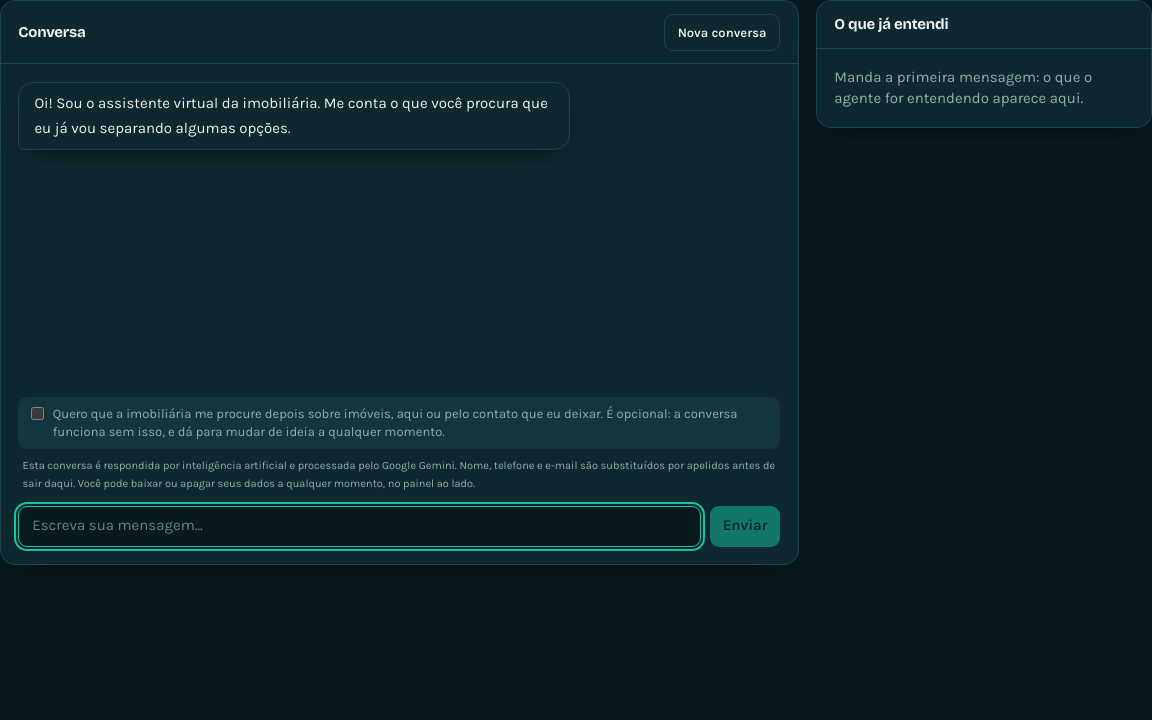
Test case: o que o payload do turno vira na tela › mostra o perfil em português, não o enum cru
The image size is (1152, 720).
Type "oi" into the field with placeholder "Escreva sua mensagem...".
click(360, 526); type("oi")  # box [18,506,701,547]
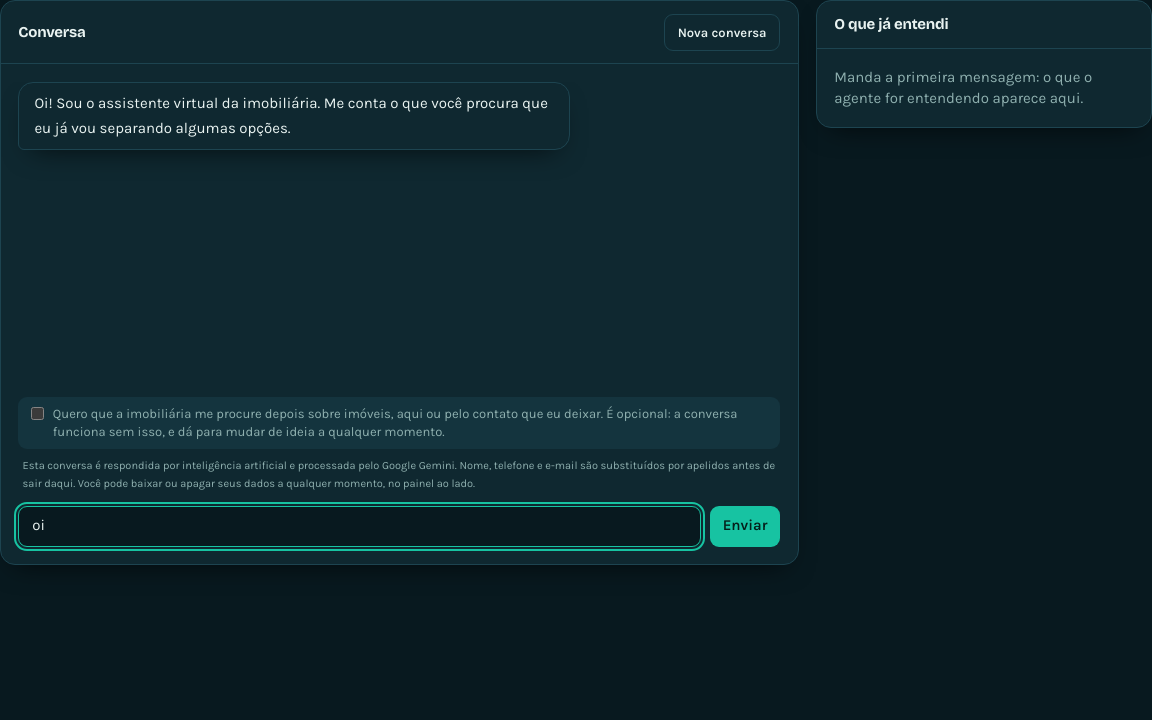
Click the button "Enviar".
click(745, 526)  # box [710,506,780,547]
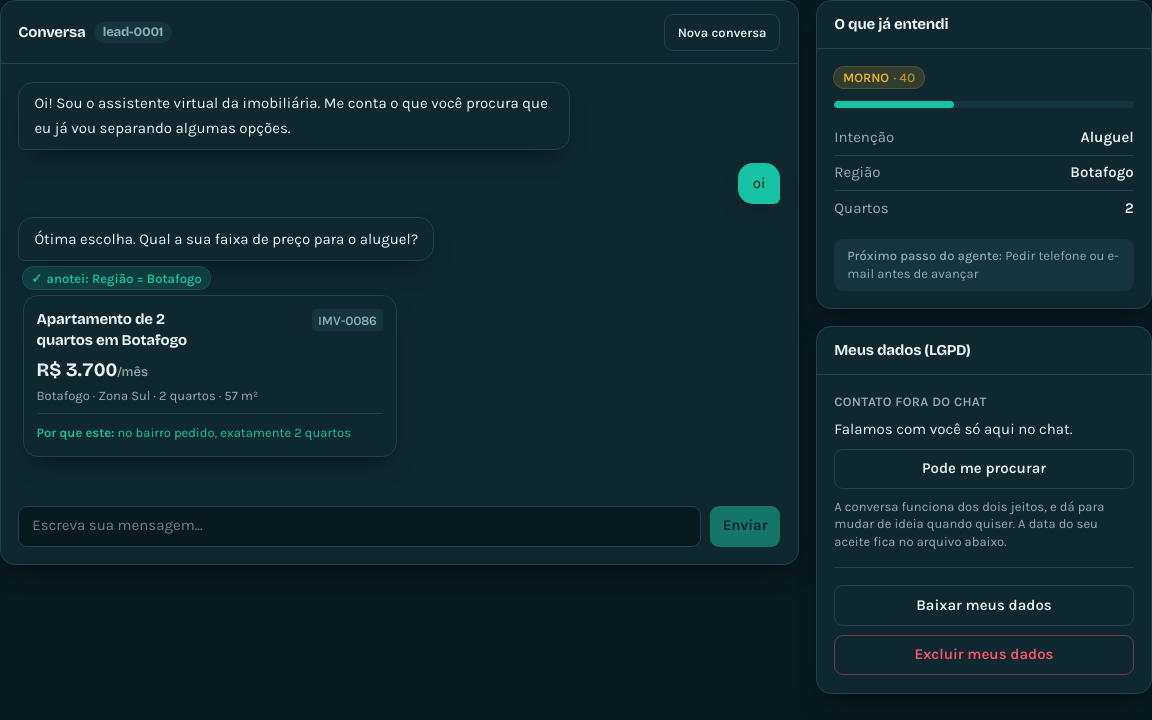
Now the text "aluguel" is shown, box [1080,127,1134,148]
Now the text "Quartos" is shown, box [834,198,889,219]
